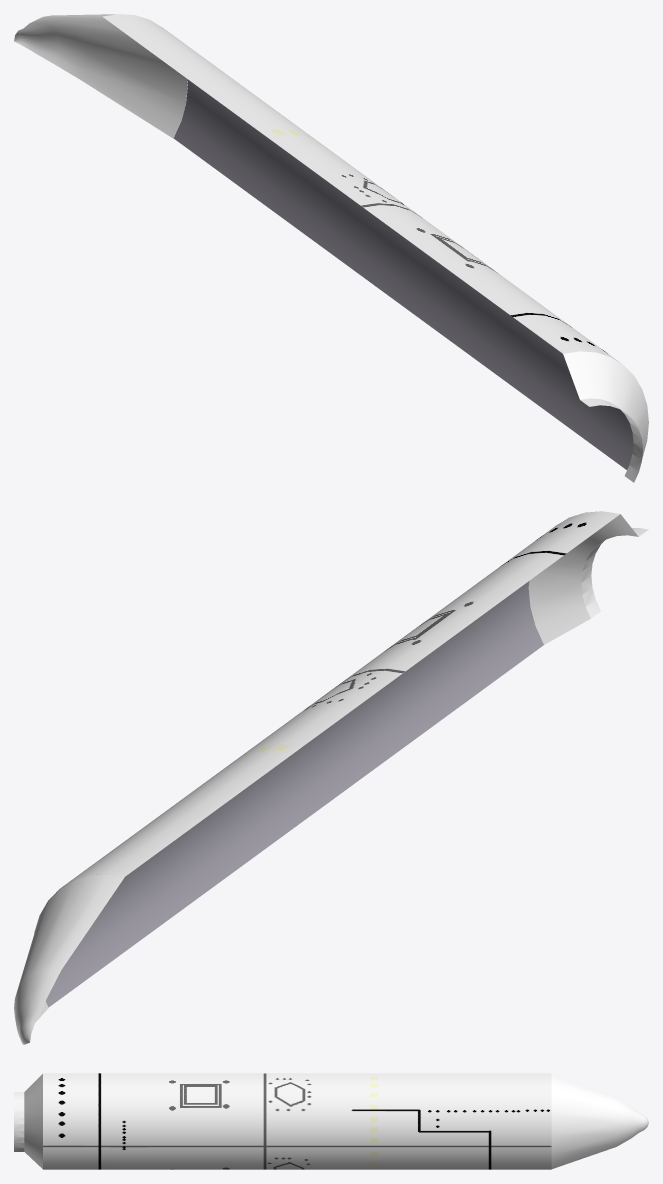
The model's file is fairing615a.obj.
3 views of the same model, one above another, from view 1: azimuth 30°, elevation 25°; view 2: azimuth 150°, elevation 25°; view 3: azimuth 270°, elevation 25° (orthographic). The views are drawn at different scales.
Visible parts, largest first — view 1: group0, group1; view 2: group0, group1; view 3: group1.
Boxes of the visible parts, x1,y1,x2,y2 form: group0: (14,16,642,482); group1: (45,14,648,459); group0: (34,514,638,1021); group1: (14,511,648,1044); group1: (14,1073,648,1169).
Bounding box in the file's own units: 2.51 × 3.89 × 29.07.
Materials: 2 (2 with a texture image).
